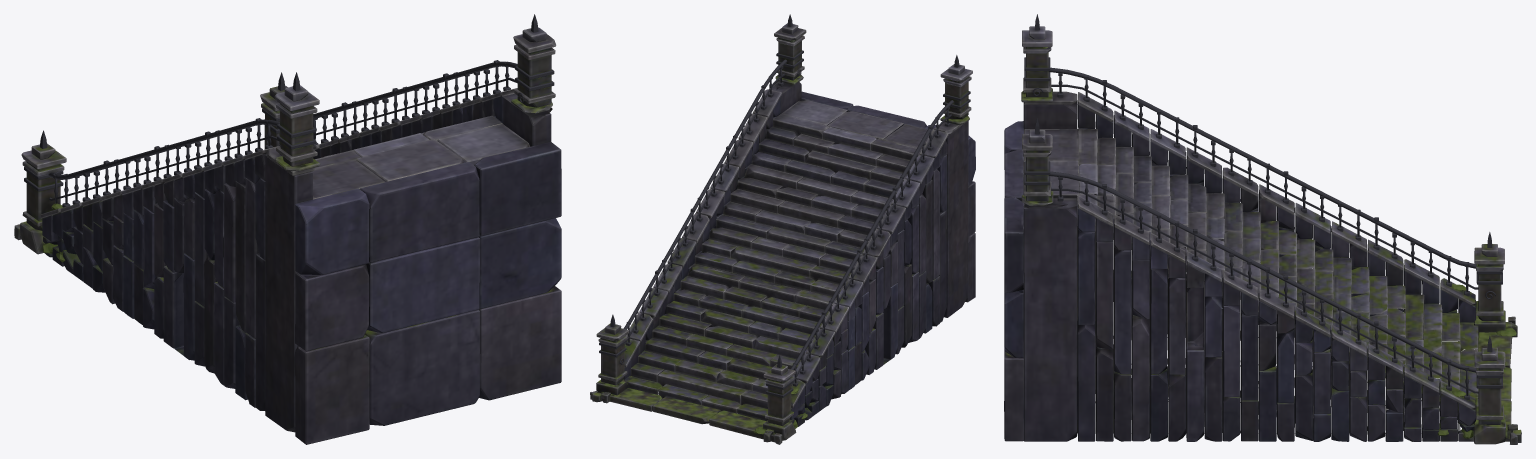
Rendered from SM_Cripta_Escadaria.glb.
3 views of the same model, side by side, from view 1: azimuth 30°, elevation 25°; view 2: azimuth 150°, elevation 25°; view 3: azimuth 270°, elevation 25° (orthographic). The views are drawn at different scales.
Visible parts, largest first — view 1: SM_Cripta_Escadaria; view 2: SM_Cripta_Escadaria; view 3: SM_Cripta_Escadaria.
Boxes of the visible parts, x1=… form: SM_Cripta_Escadaria: x1=14, y1=14, x2=561, y2=444; SM_Cripta_Escadaria: x1=590, y1=14, x2=975, y2=444; SM_Cripta_Escadaria: x1=1004, y1=14, x2=1521, y2=444.
Size of what is drawn, in the model's own units: 4.94 by 6.25 by 9.14.
2 materials, 1 textured.
